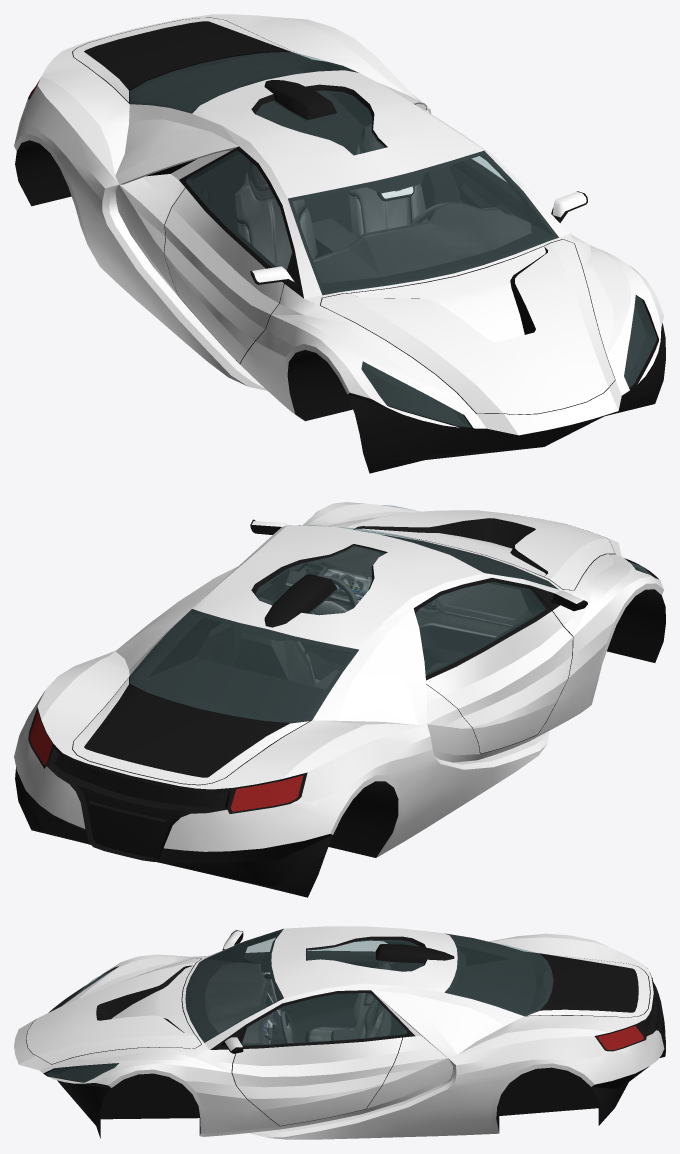
The model's file is Electric_2.FBX.
3 views of the same model, one above another, from view 1: azimuth 30°, elevation 25°; view 2: azimuth 150°, elevation 25°; view 3: azimuth 270°, elevation 25° (orthographic). The views are drawn at different scales.
Parts seen in each view (by area): view 1: Elecric_2, Elecric_2_Hood, Electric_2_Window_F, Elecric_2_Roof, Electric_2_Dashboard, Elecric_2_Door_R, Elecric_2_Trunk, Electric_2_Window_R, Electric_2_Window_B, Electric_2_Window_T, Elecric_2_Door_L, Electric_2_Window_TaillightsR (+1 smaller); view 2: Elecric_2, Elecric_2_Roof, Electric_2_Window_B, Elecric_2_Door_R, Elecric_2_Trunk, Electric_2_Dashboard, Elecric_2_Hood, Electric_2_Window_R, Electric_2_Window_T, Electric_2_Window_F, Elecric_2_Door_L, Electric_2_Dashboard_SteringWheel; view 3: Elecric_2, Elecric_2_Door_L, Elecric_2_Roof, Elecric_2_Hood, Electric_2_Window_F, Electric_2_Dashboard, Electric_2_Window_B, Electric_2_Window_L, Elecric_2_Trunk, Elecric_2_Door_R, Electric_2_Window_T, Electric_2_Window_TaillightsL (+2 smaller).
Part boxes in pixels (x1,y1,x2,y2): Elecric_2: (14, 14, 665, 473); Elecric_2_Hood: (320, 239, 614, 414); Electric_2_Window_F: (288, 151, 558, 294); Elecric_2_Roof: (192, 70, 529, 248); Electric_2_Dashboard: (234, 124, 531, 327); Elecric_2_Door_R: (164, 146, 294, 363); Elecric_2_Trunk: (73, 18, 307, 101); Electric_2_Window_R: (186, 151, 291, 269); Electric_2_Window_B: (130, 52, 357, 113); Electric_2_Window_T: (256, 91, 385, 154); Elecric_2_Door_L: (449, 155, 528, 221); Electric_2_Window_TaillightsR: (362, 362, 470, 426); Elecric_2: (14, 502, 665, 897); Elecric_2_Roof: (192, 525, 529, 652); Electric_2_Window_B: (130, 609, 358, 722); Elecric_2_Door_R: (413, 578, 572, 753); Elecric_2_Trunk: (73, 677, 309, 784); Electric_2_Dashboard: (233, 547, 527, 691); Elecric_2_Hood: (329, 510, 614, 589); Electric_2_Window_R: (416, 582, 545, 675); Electric_2_Window_T: (256, 545, 385, 614); Electric_2_Window_F: (289, 525, 557, 588); Elecric_2_Door_L: (208, 576, 278, 666); Electric_2_Dashboard_SteringWheel: (310, 576, 358, 615); Elecric_2: (14, 930, 665, 1139); Elecric_2_Door_L: (232, 990, 415, 1125); Elecric_2_Roof: (244, 926, 465, 1024); Elecric_2_Hood: (26, 958, 201, 1064); Electric_2_Window_F: (185, 929, 283, 1042); Electric_2_Dashboard: (205, 962, 391, 1045); Electric_2_Window_B: (445, 934, 553, 1015); Electric_2_Window_L: (242, 993, 406, 1045); Elecric_2_Trunk: (526, 953, 649, 1017); Elecric_2_Door_R: (242, 935, 391, 1020); Electric_2_Window_T: (306, 940, 423, 971); Electric_2_Window_TaillightsL: (46, 1063, 118, 1082).
Size of the model in its own units: 214 by 119 by 499.
